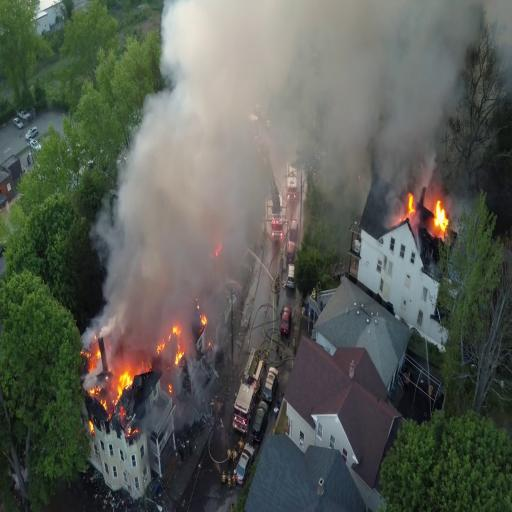fire: (111, 361, 136, 403), (436, 200, 452, 230)
smoke: (183, 11, 373, 134), (144, 169, 212, 295)
